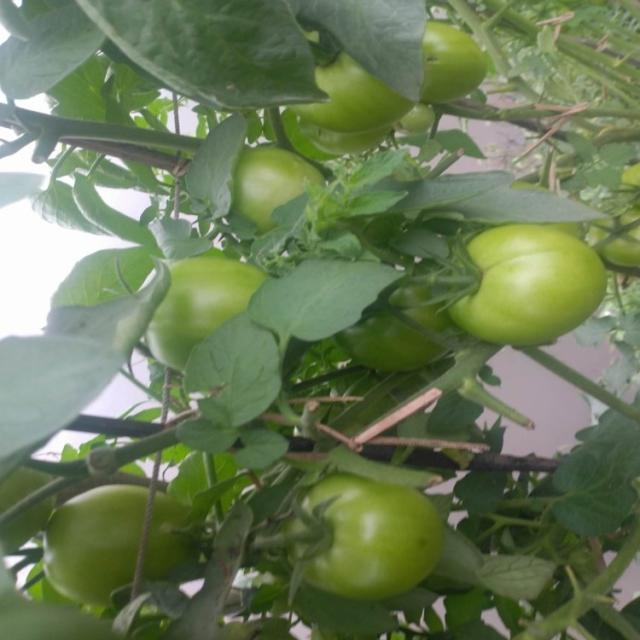tomato: (291, 456, 437, 594), (450, 219, 600, 343), (44, 480, 188, 596), (152, 259, 261, 365), (226, 140, 346, 232), (349, 271, 446, 372), (302, 34, 401, 129), (408, 26, 497, 91), (1, 450, 41, 544), (591, 205, 640, 268)
